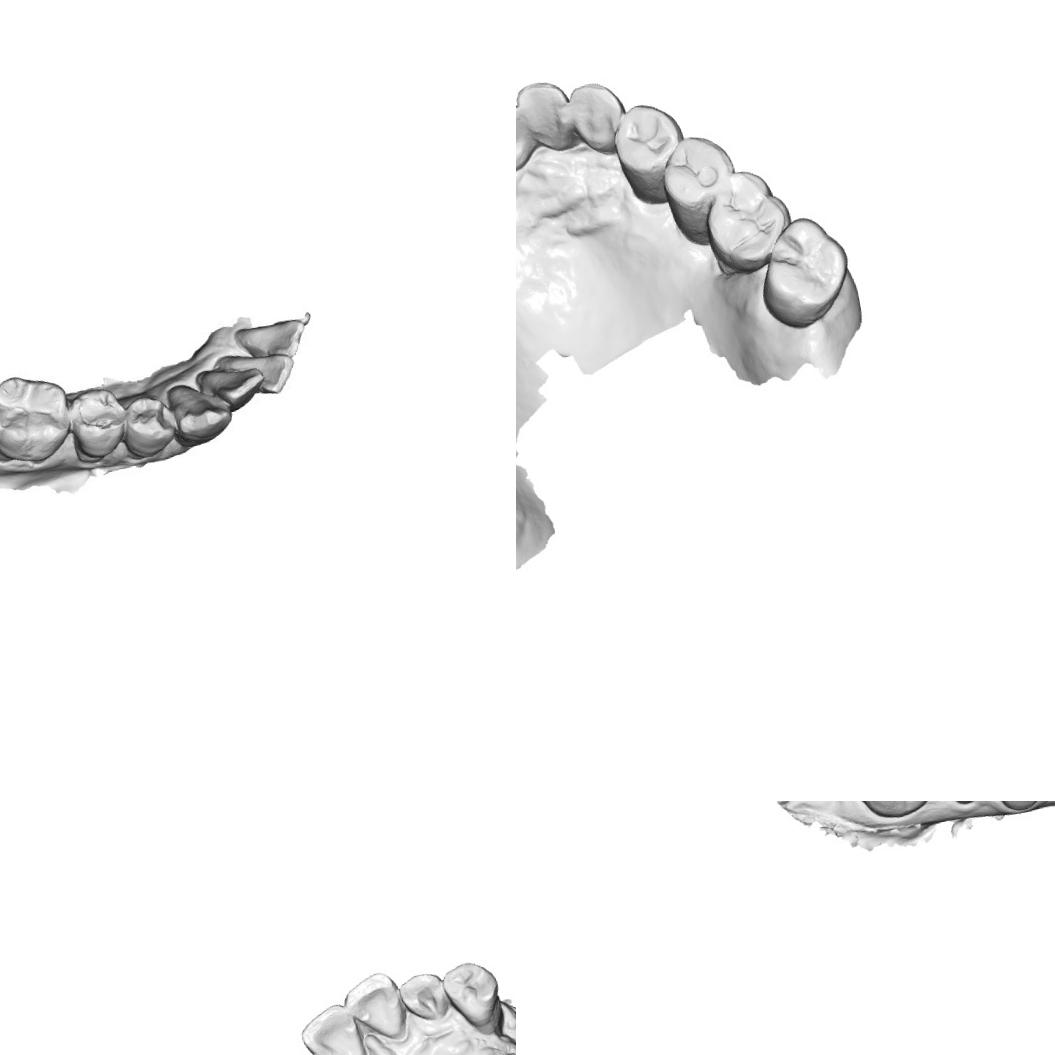canine: (563, 75, 633, 160), (438, 956, 506, 1033), (166, 374, 236, 447)
incisor: (336, 967, 410, 1048), (516, 74, 581, 152), (218, 339, 295, 402), (232, 313, 312, 368), (194, 353, 265, 414), (294, 998, 369, 1055), (394, 967, 456, 1026)
molar: (750, 208, 860, 328), (694, 162, 796, 278), (0, 371, 74, 467), (838, 801, 943, 825)
premolar: (654, 127, 742, 222), (606, 95, 690, 187), (68, 388, 135, 466), (126, 396, 176, 456)
